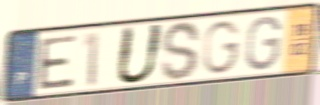1: (82, 29, 102, 89)
E: (37, 32, 78, 92)
G: (243, 14, 284, 73), (202, 19, 243, 76)
S: (159, 19, 203, 83)
U: (113, 22, 167, 87)
